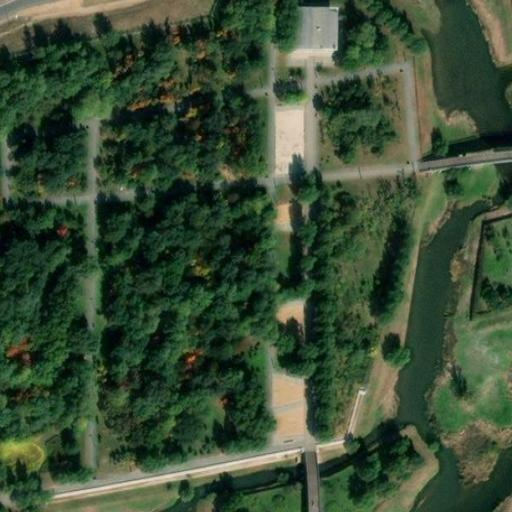building: (282, 6, 336, 47)
